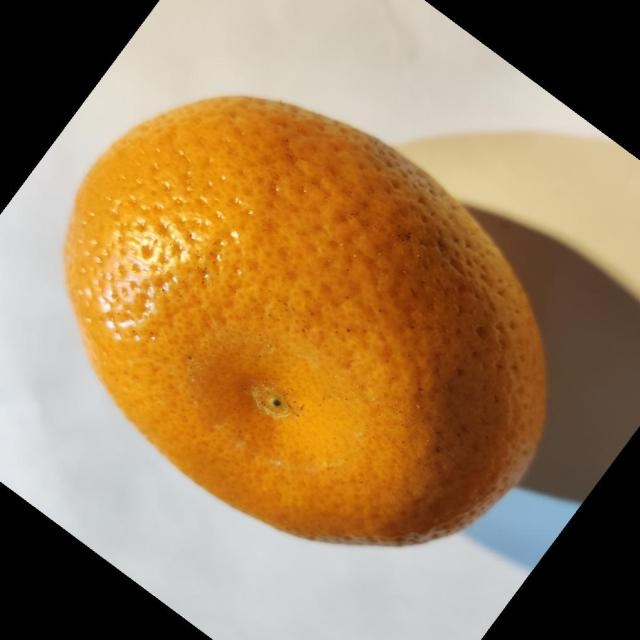agrume: (62, 93, 549, 548)
